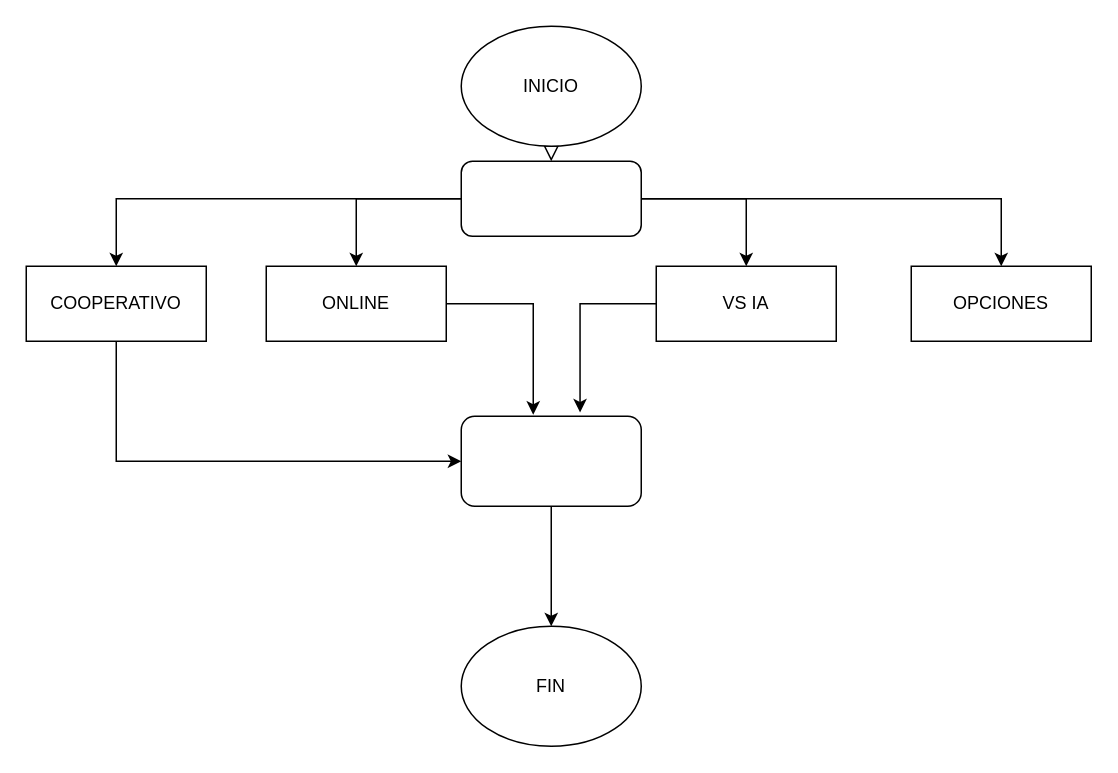
Some shapes in this 1118 by 773 pixel diagram are drawn without their labels. The box of each missing label's shape, as (x1, y1, x2, y2) in pixels:
JUEGO: (460, 415, 641, 506)
MENÚ: (460, 160, 641, 236)
